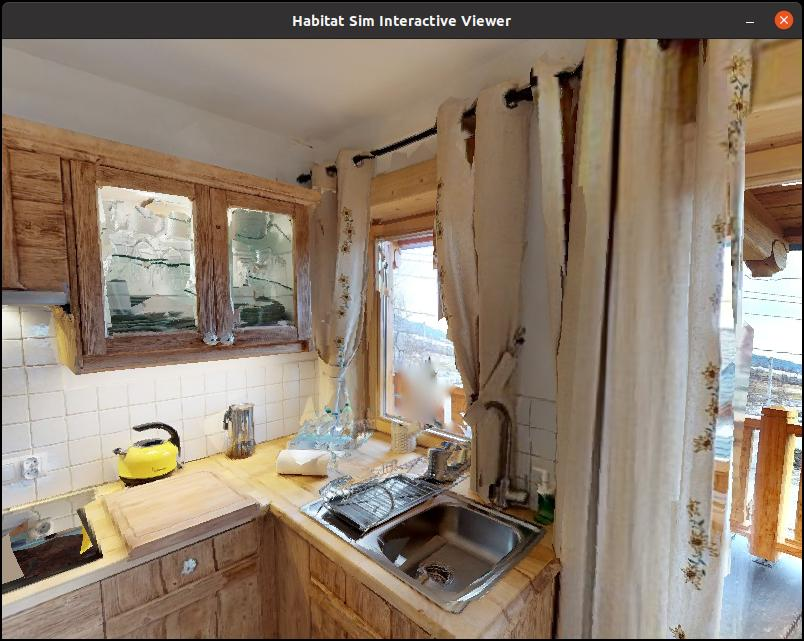sink: (350, 393, 553, 620)
